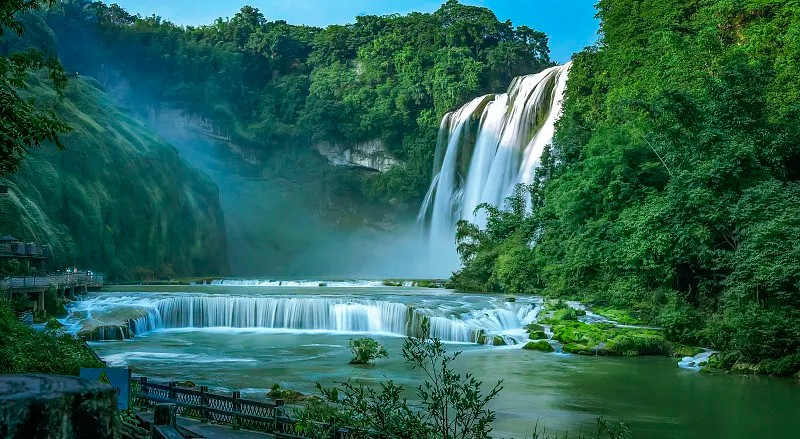Huangguoshu: (419, 60, 572, 279)
